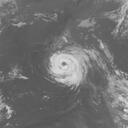cyclone: (48, 49, 86, 86)
